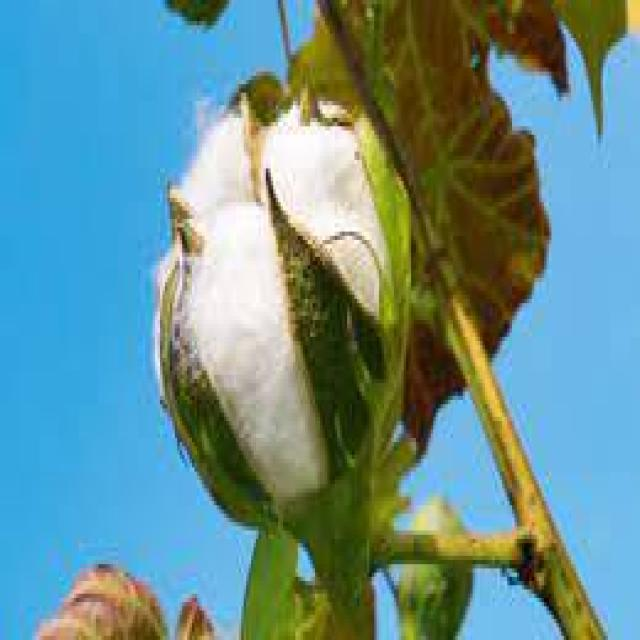Split Cotton Boll: (153, 91, 417, 502)
